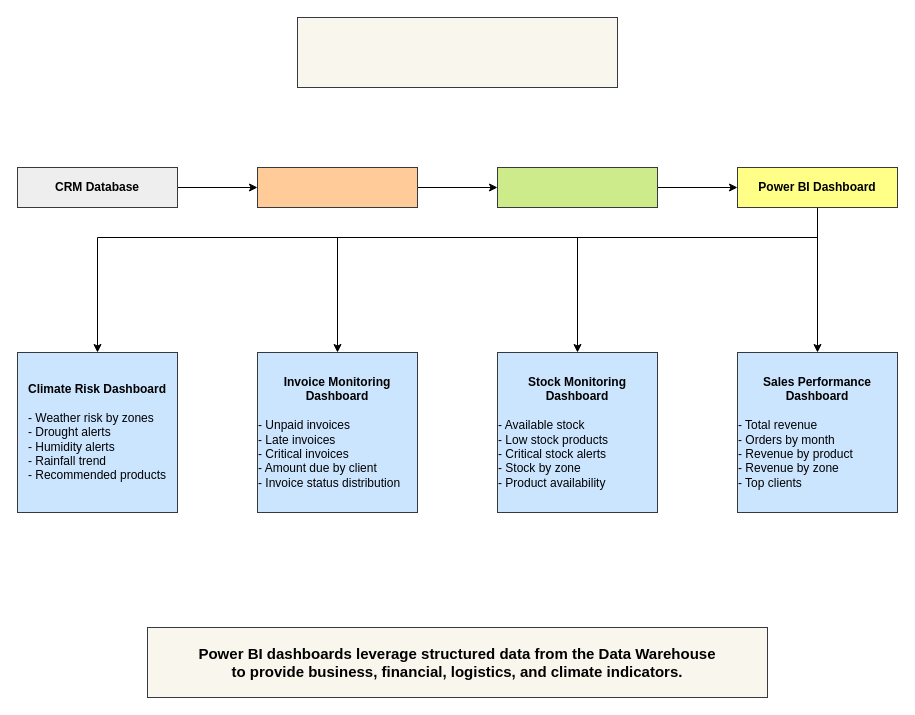
Some shapes in this 915 by 715 pixel diagram are drawn without their labels. The shapes that lost their labels are listed below. From the top down, each one's centre as x and y in pixels, then its label:
pixel 457 52: Power BI dashboard plan
pixel 337 187: Talend ETL
pixel 577 187: Data Warehouse
